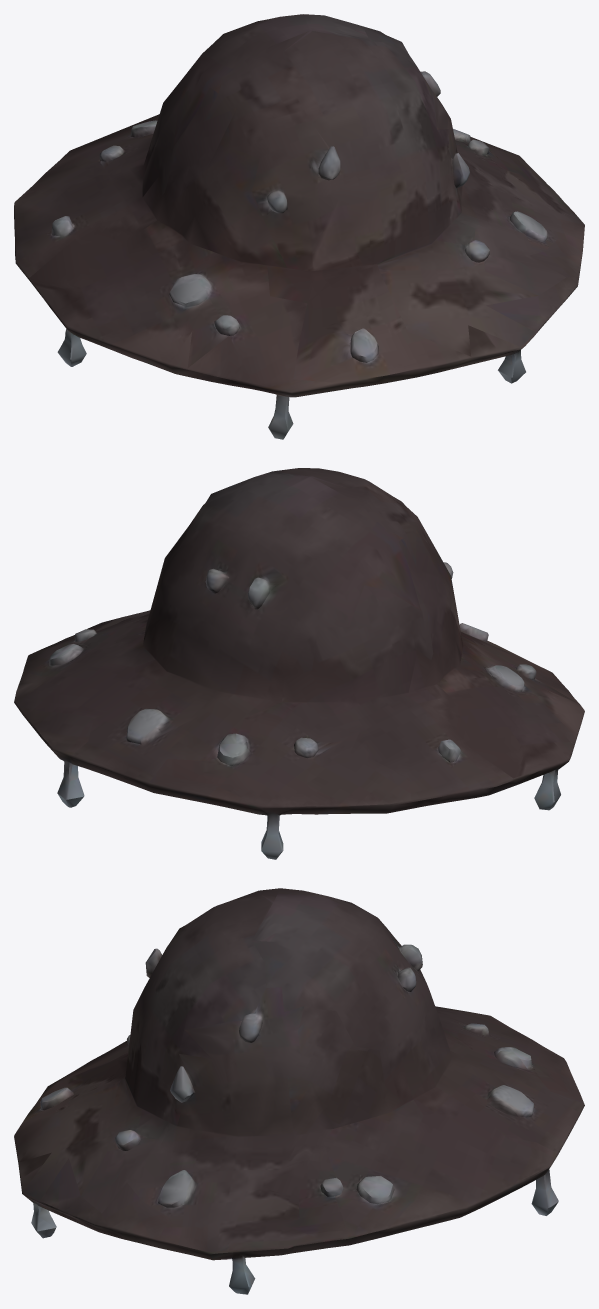
The model's file is hat_fm_wide_idle.glb.
The picture shows the model from 3 angles, top to bottom: view 1: azimuth 30°, elevation 25°; view 2: azimuth 150°, elevation 25°; view 3: azimuth 270°, elevation 25°; orthographic projection.
Visible parts, largest first — view 1: hat_fm_wide; view 2: hat_fm_wide; view 3: hat_fm_wide.
Boxes of the visible parts, <box> form: hat_fm_wide: <box>14,14,584,439</box>; hat_fm_wide: <box>14,468,584,859</box>; hat_fm_wide: <box>14,888,584,1294</box>.
Size of the model in its own units: 0.3441 by 0.2 by 0.3379.
1 material, 1 textured.
